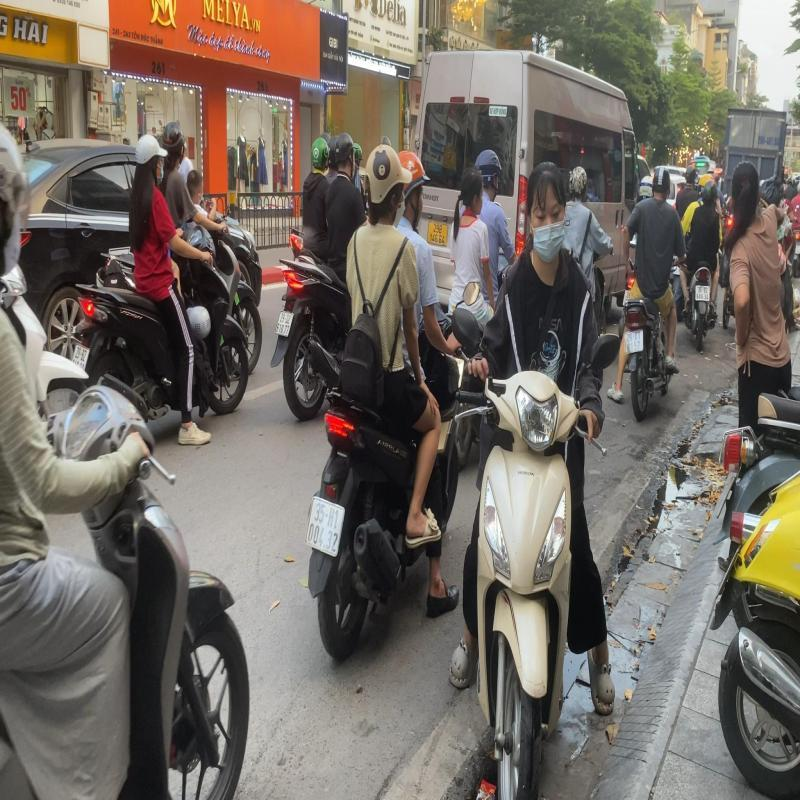nohelmet: (456, 161, 486, 215)
